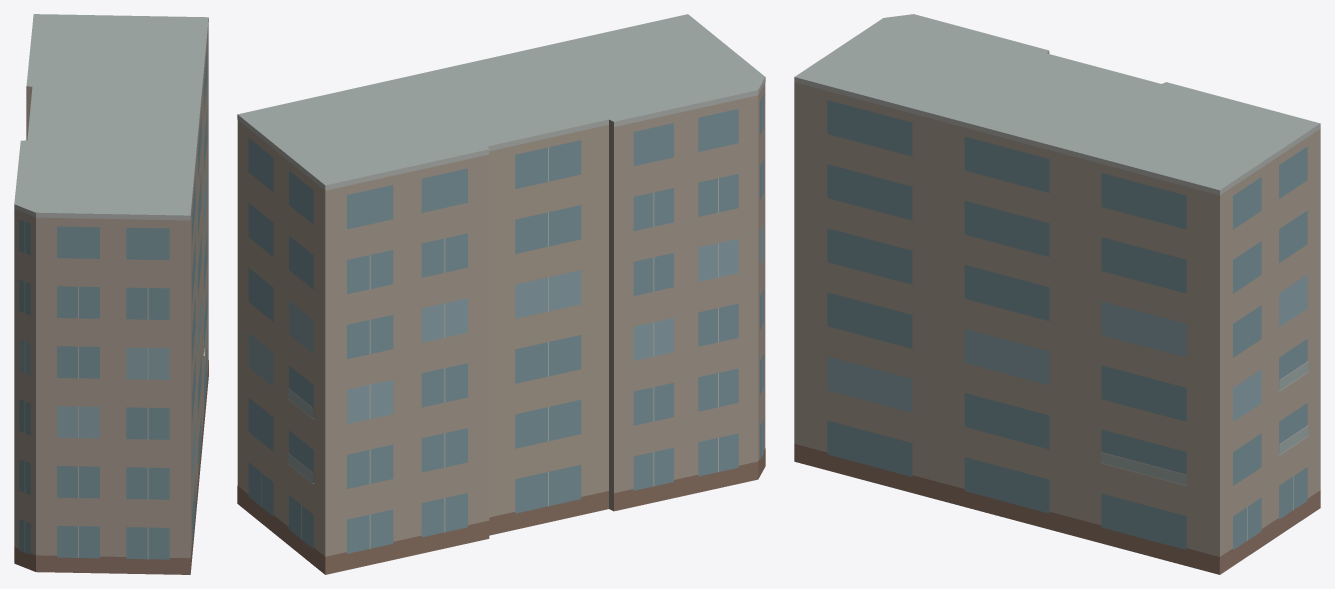
The model's file is survey-upis-32997571.glb.
3 renders of one model, left to right at view 1: azimuth 30°, elevation 25°; view 2: azimuth 150°, elevation 25°; view 3: azimuth 270°, elevation 25°, orthographic. The views are drawn at different scales.
Visible parts, largest first — view 1: survey-upis-32997571.tmp; view 2: survey-upis-32997571.tmp; view 3: survey-upis-32997571.tmp.
Boxes of the visible parts, x1,y1,x2,y2 form: survey-upis-32997571.tmp: (14, 14, 208, 574); survey-upis-32997571.tmp: (237, 14, 765, 574); survey-upis-32997571.tmp: (794, 14, 1320, 574).
Size of the model in its own units: 17.9 by 18.2 by 22.57.
